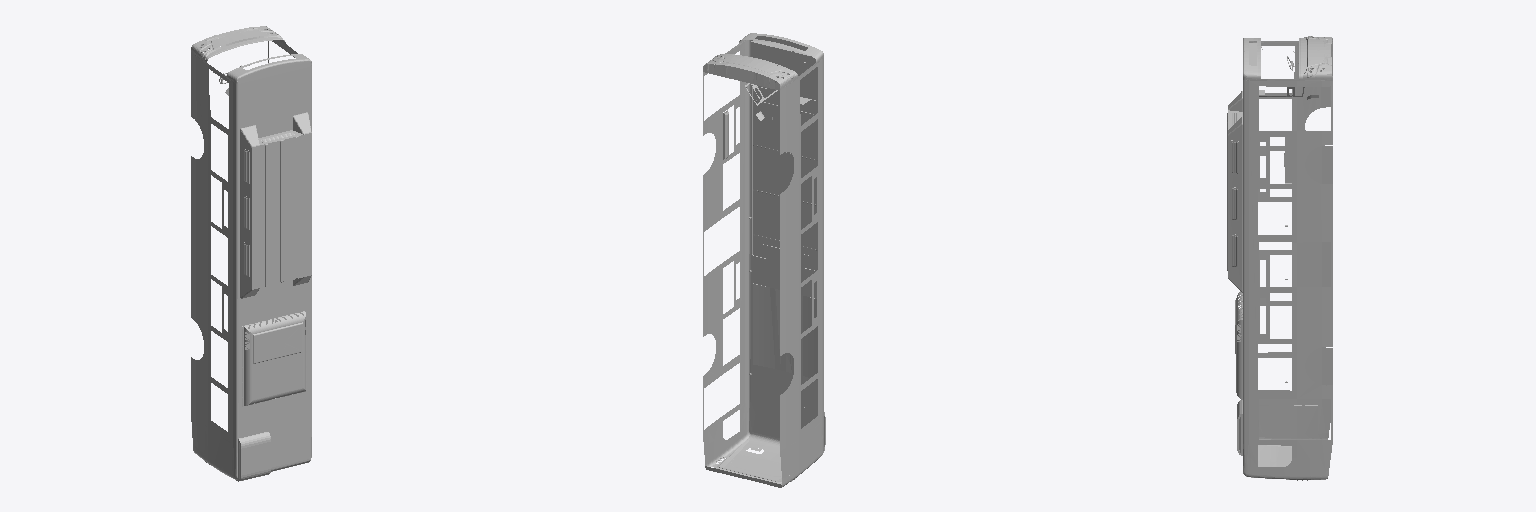
File: Liazed.obj
3 renders of one model, left to right at view 1: azimuth 30°, elevation 25°; view 2: azimuth 150°, elevation 25°; view 3: azimuth 270°, elevation 25°, orthographic.
Visible parts, largest first — view 1: Liaz1_hheh4; view 2: Liaz1_hheh4; view 3: Liaz1_hheh4.
Boxes of the visible parts, x1=… form: Liaz1_hheh4: x1=191, y1=26, x2=311, y2=481; Liaz1_hheh4: x1=703, y1=33, x2=825, y2=487; Liaz1_hheh4: x1=1227, y1=36, x2=1332, y2=480.
Size of the model in its own units: 2.51 by 12.55 by 2.92.